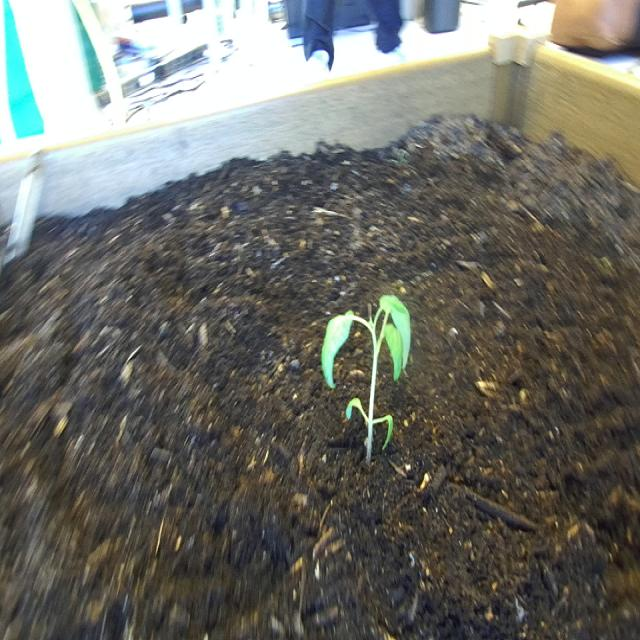Healthy: (316, 283, 416, 473)
